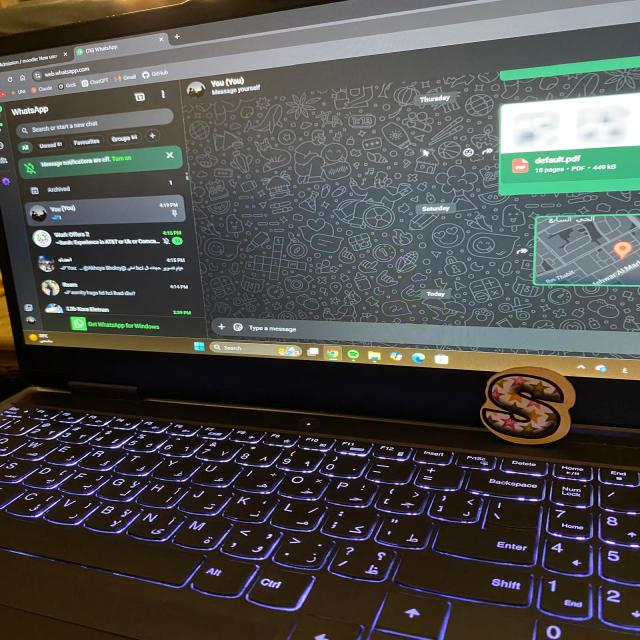S: (481, 366, 575, 443)
